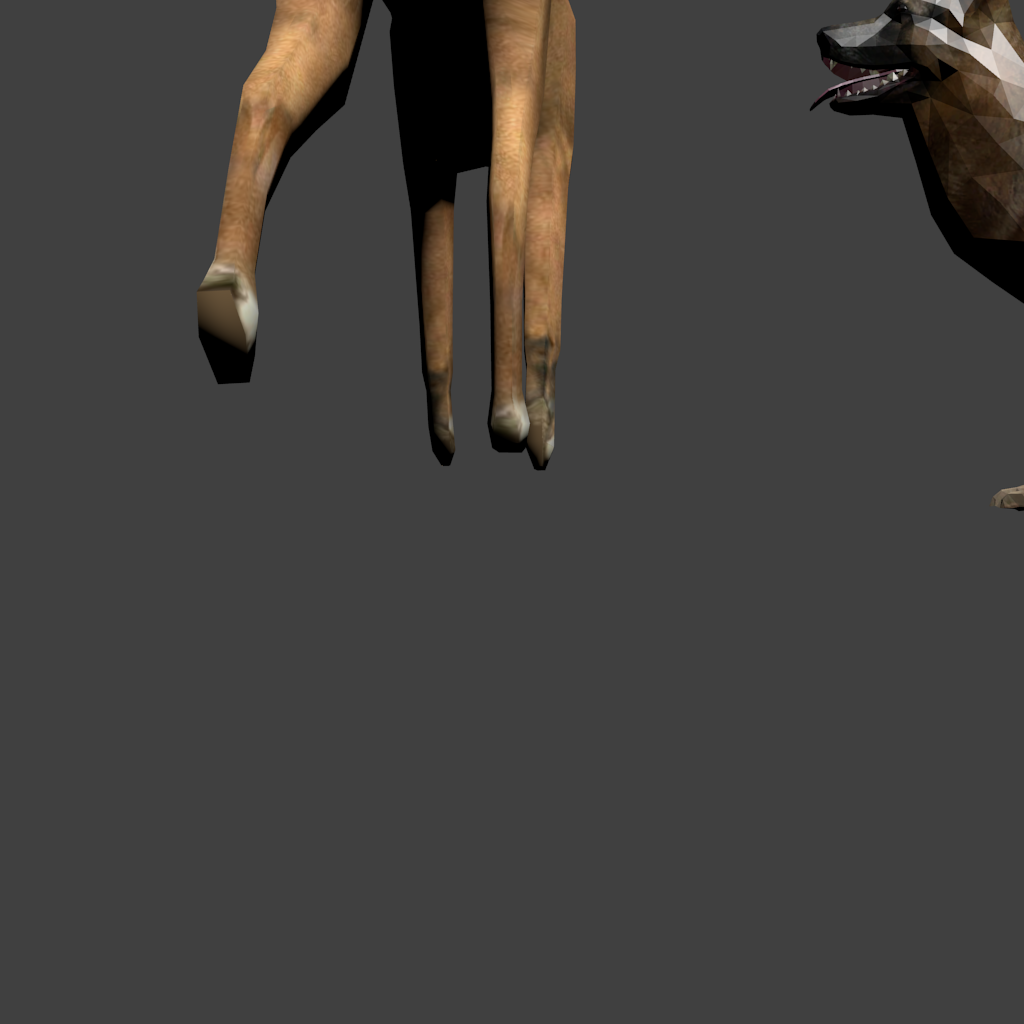Dog: (197, 0, 379, 471)
